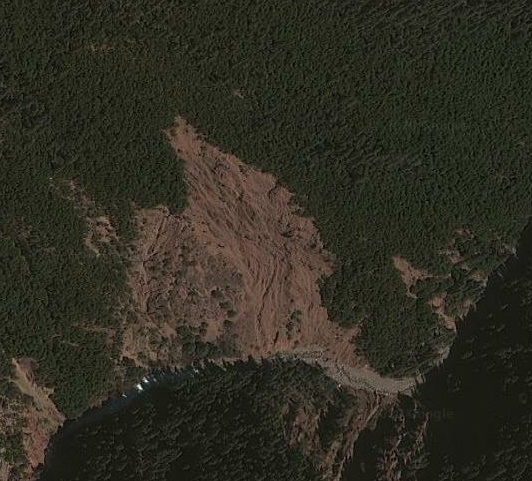slope: (85, 113, 416, 394), (3, 354, 68, 478)
